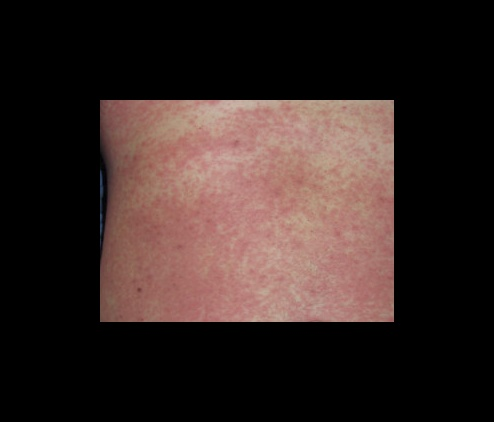SJS-TEN: (95, 97, 397, 325)
